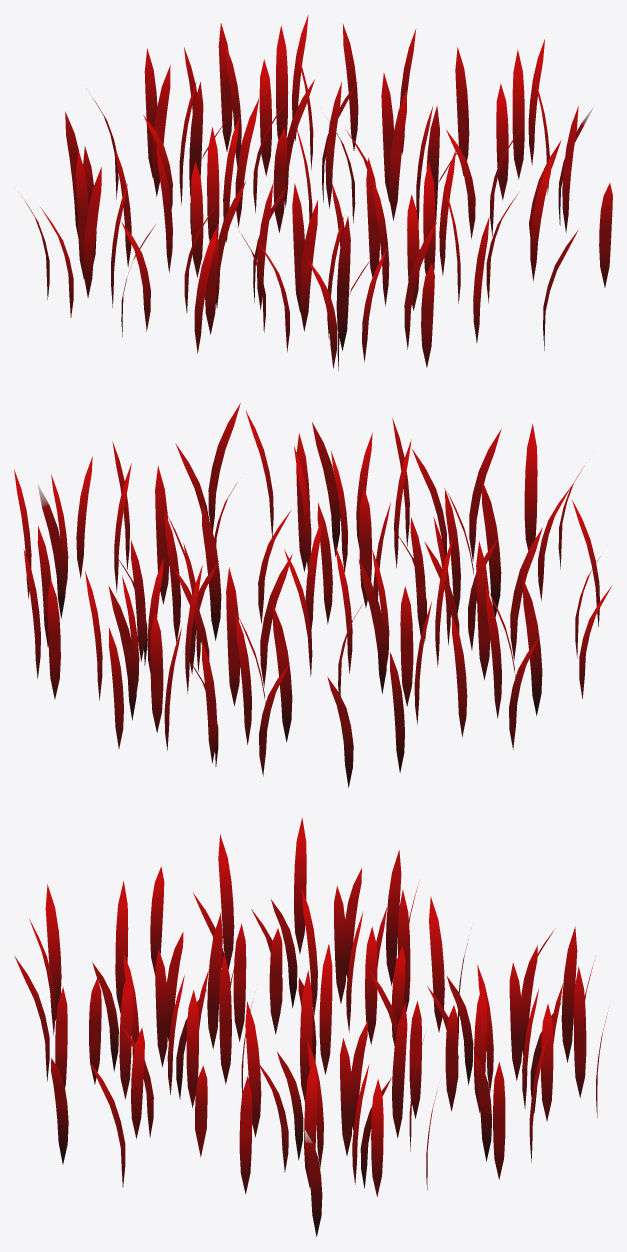
File: grass_remake.fbx
3 renders of one model, top to bottom at view 1: azimuth 30°, elevation 25°; view 2: azimuth 150°, elevation 25°; view 3: azimuth 270°, elevation 25°, orthographic. The views are drawn at different scales.
Visible parts, largest first — view 1: Plane; view 2: Plane; view 3: Plane.
Part boxes in pixels (bbox=[...]): Plane: bbox=[22, 15, 612, 370]; Plane: bbox=[14, 403, 612, 787]; Plane: bbox=[14, 818, 607, 1236].
Bounding box in the file's own units: 4.59 × 1.33 × 4.22.
